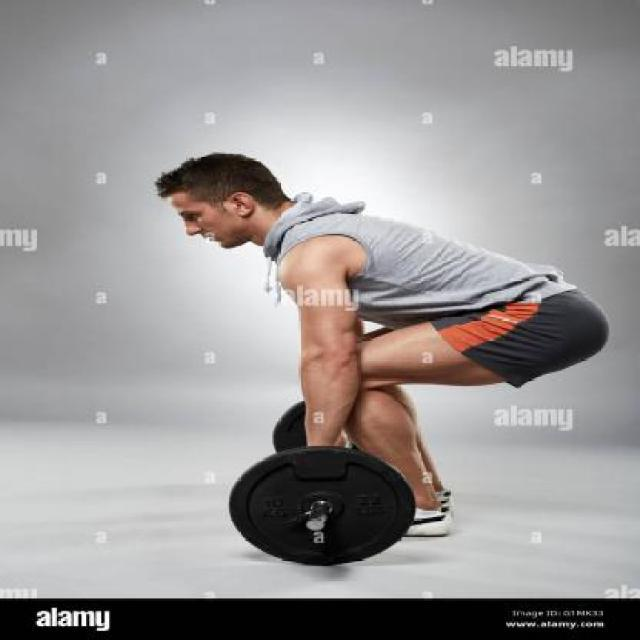Barbell: (282, 502, 344, 538)
